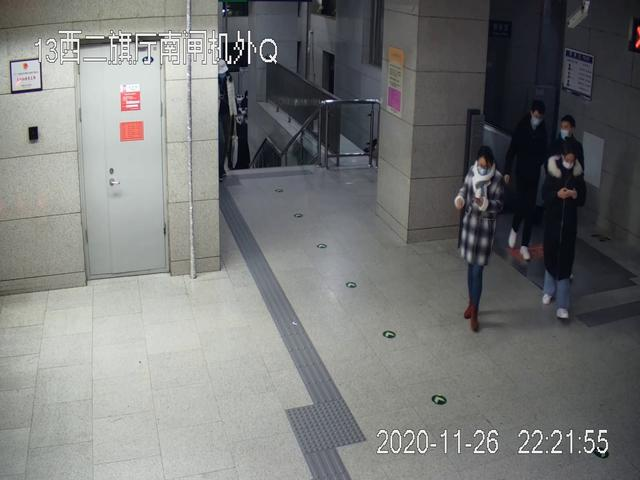person: (452, 145, 506, 334), (540, 145, 585, 322), (505, 97, 545, 262)
